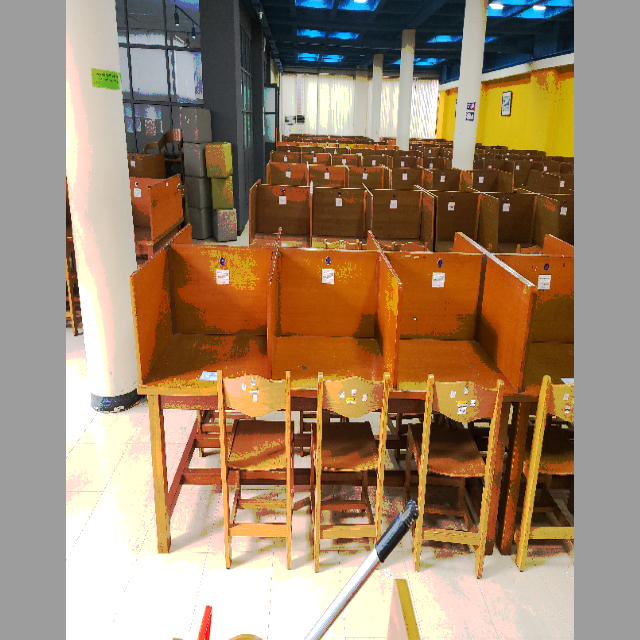empty: (136, 239, 271, 457), (278, 254, 403, 476), (412, 257, 524, 466)
